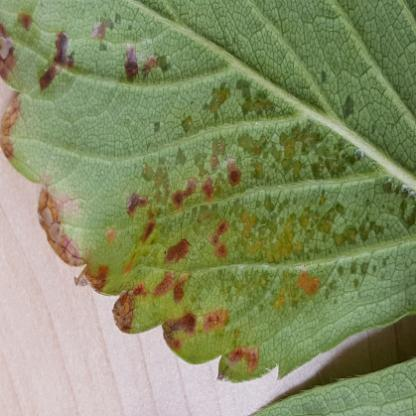Strawberry_Angular_LeafSpot: (0, 0, 416, 385)
